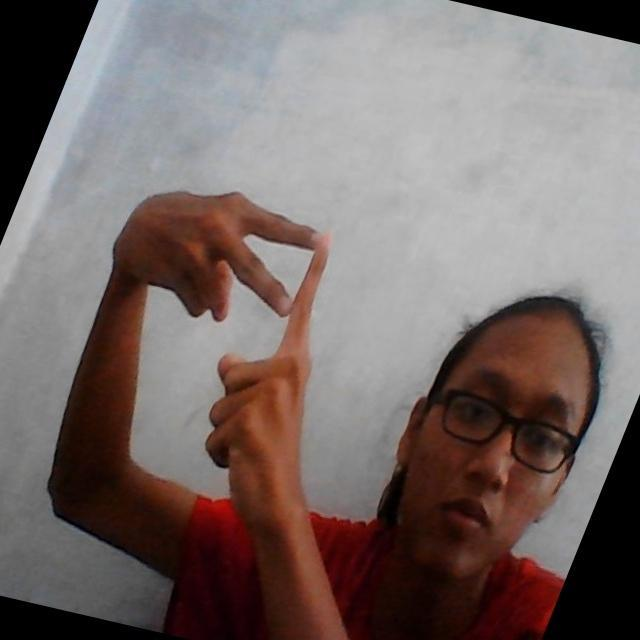P: (204, 187, 338, 457)
